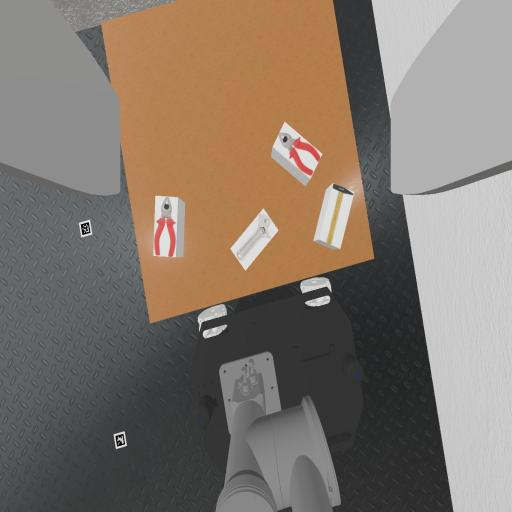hammer: (327, 184, 353, 243)
pliers: (279, 133, 320, 176), (154, 197, 175, 256)
wrench: (237, 214, 270, 259)
